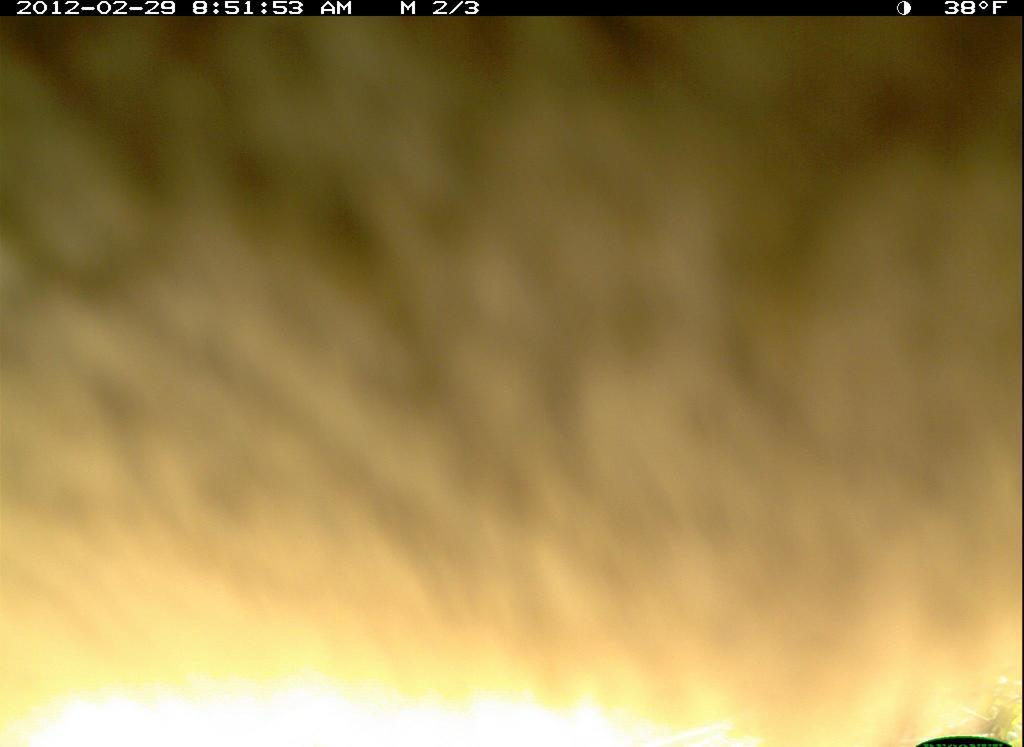coyote: (1, 11, 1023, 747)
